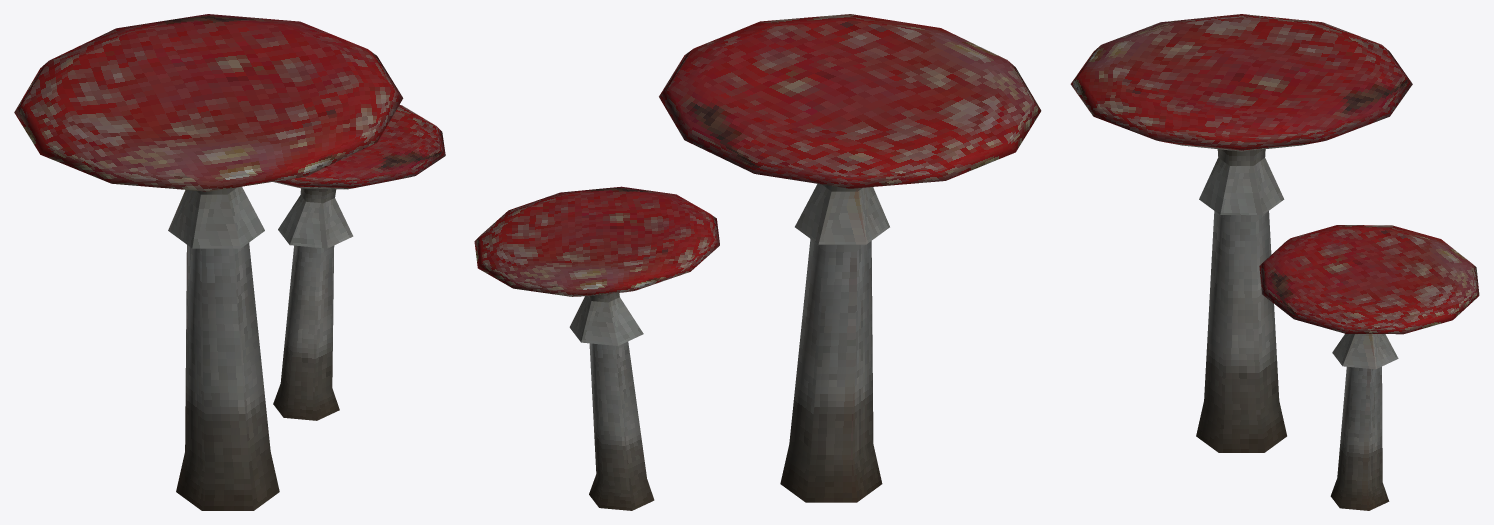
Rendered from mushroom_n_4_1.glb.
3 views of the same model, side by side, from view 1: azimuth 30°, elevation 25°; view 2: azimuth 150°, elevation 25°; view 3: azimuth 270°, elevation 25° (orthographic). The views are drawn at different scales.
Parts seen in each view (by area): view 1: mushroom_n_4_1; view 2: mushroom_n_4_1; view 3: mushroom_n_4_1.
Part boxes in pixels (left/top/right/bottom): mushroom_n_4_1: left=14, top=14, right=445, bottom=510; mushroom_n_4_1: left=474, top=14, right=1041, bottom=510; mushroom_n_4_1: left=1070, top=14, right=1479, bottom=510.
Size of the model in its own units: 0.1268 by 0.1094 by 0.1108.
Materials: 1 (1 with a texture image).
